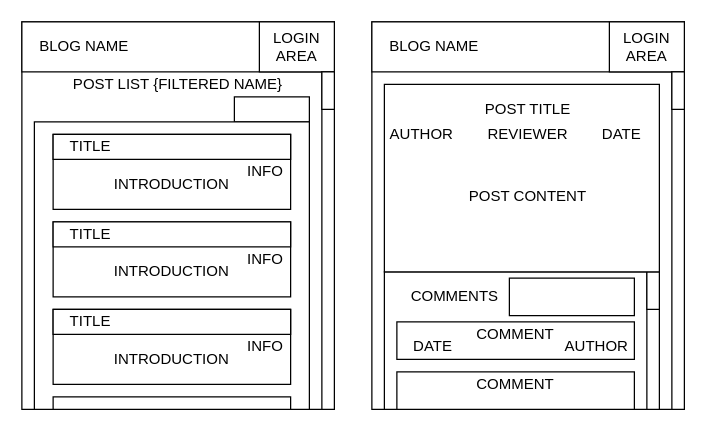
This 706x431 diagram has some shape labels left out. The centre of each missing label's shape, as x and y in pixels:
"ADD COMMENT" belongs at (x=571, y=296).
"FILTERS" belongs at (x=271, y=109).
